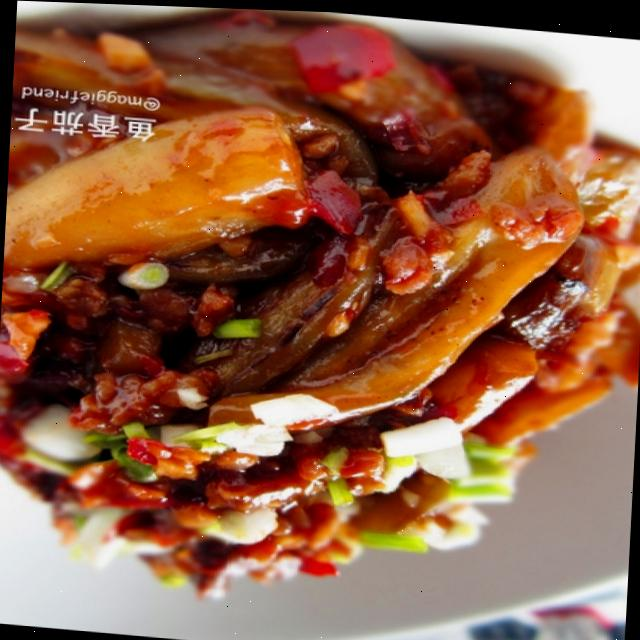鸡蛋料理: (0, 0, 640, 631)
